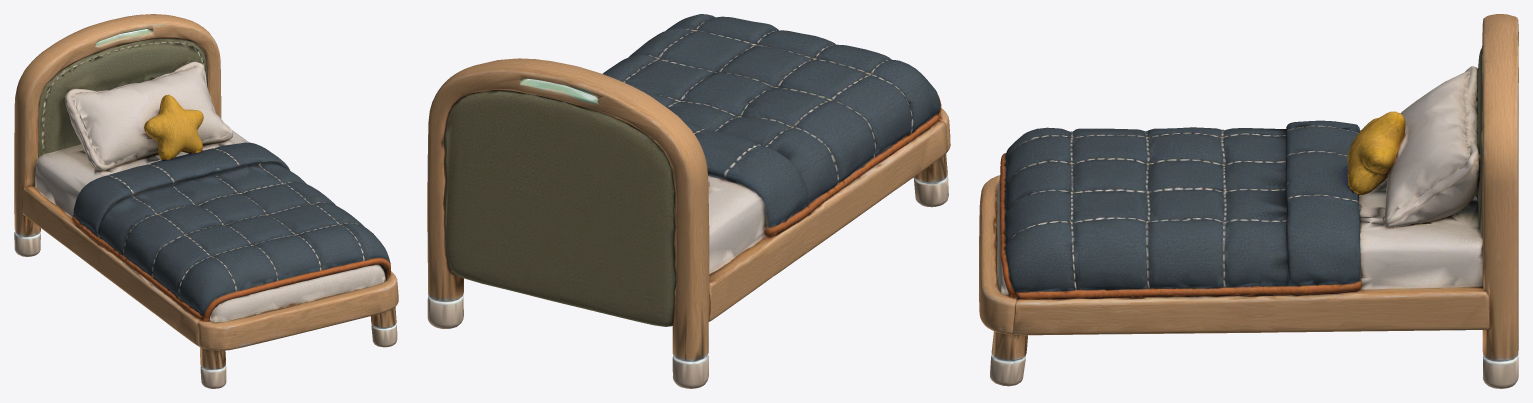
The model's file is bed.medium.glb.
3 renders of one model, left to right at view 1: azimuth 30°, elevation 25°; view 2: azimuth 150°, elevation 25°; view 3: azimuth 270°, elevation 25°, orthographic. The views are drawn at different scales.
Parts seen in each view (by area): view 1: tripo_node_44f4c091-8c93-4444-b12b-0cba64eb0e09; view 2: tripo_node_44f4c091-8c93-4444-b12b-0cba64eb0e09; view 3: tripo_node_44f4c091-8c93-4444-b12b-0cba64eb0e09.
Boxes of the visible parts, x1,y1,x2,y2 form: tripo_node_44f4c091-8c93-4444-b12b-0cba64eb0e09: [14, 14, 398, 388]; tripo_node_44f4c091-8c93-4444-b12b-0cba64eb0e09: [427, 14, 950, 388]; tripo_node_44f4c091-8c93-4444-b12b-0cba64eb0e09: [979, 14, 1518, 388].
Size of the model in its own units: 1.18 by 1.17 by 2.
Materials: 1 (1 with a texture image).
